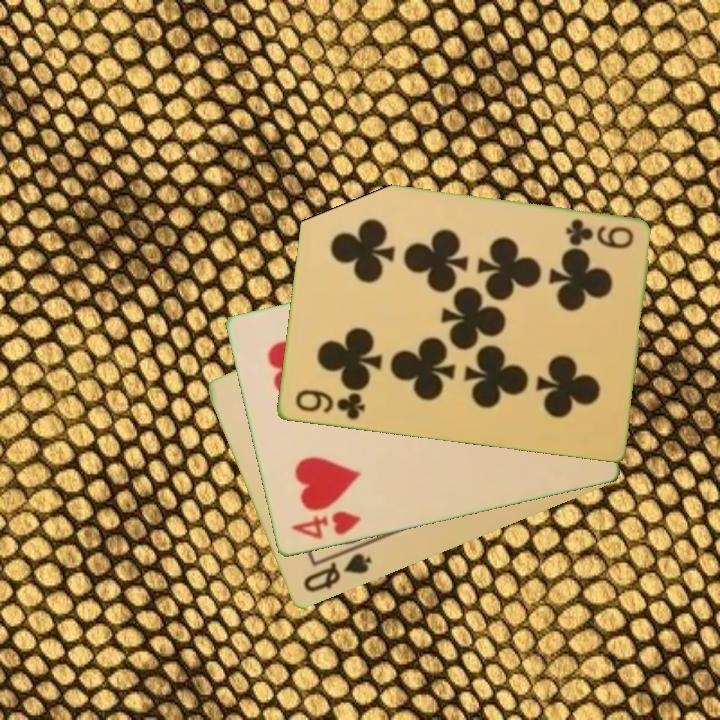4h: (287, 508, 364, 543)
9c: (291, 386, 368, 423), (562, 216, 636, 253)
Qs: (299, 550, 375, 596)
